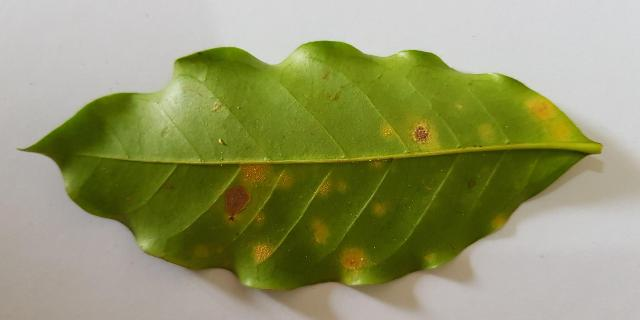cercospora: (222, 162, 293, 227), (526, 96, 570, 142), (410, 119, 440, 150), (314, 175, 347, 196), (340, 248, 367, 273), (489, 213, 511, 234), (252, 243, 273, 263), (313, 220, 328, 243), (373, 202, 386, 215), (195, 246, 210, 257), (382, 125, 396, 136), (252, 212, 265, 223), (372, 159, 386, 168), (481, 126, 491, 137), (425, 253, 436, 262)
